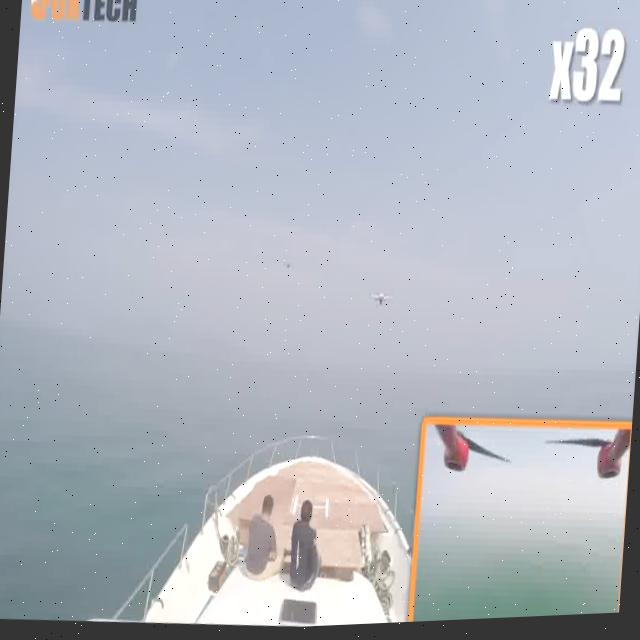drone: (366, 283, 394, 324), (279, 251, 295, 283)
